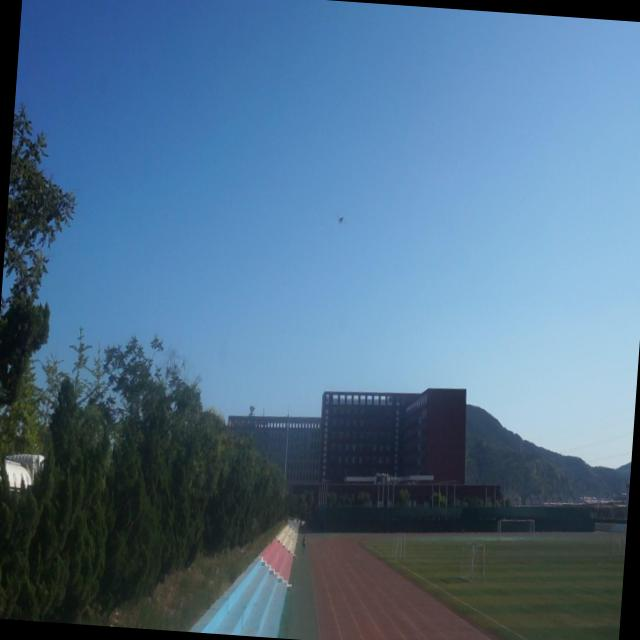drone: (334, 210, 347, 228)
